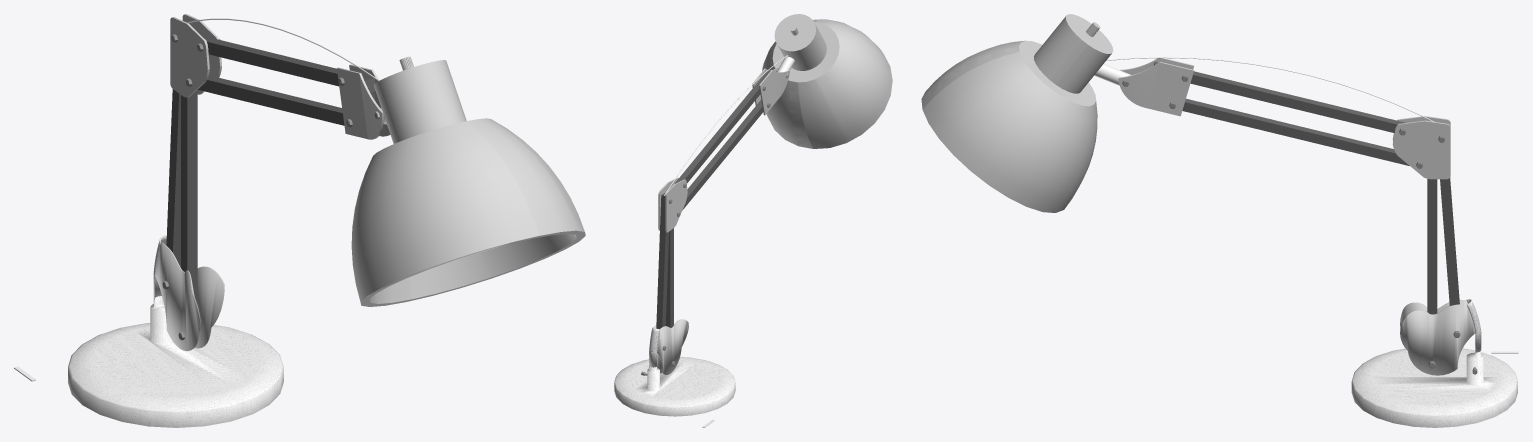
File: Licht.fbx
3 renders of one model, left to right at view 1: azimuth 30°, elevation 25°; view 2: azimuth 150°, elevation 25°; view 3: azimuth 270°, elevation 25°, orthographic. The views are drawn at different scales.
Parts seen in each view (by area): view 1: ID1303, ID1315, group_71, group_34, group_56, group_55, group_36, group_47, group_53, group_35, group_54, ID1335 (+1 smaller); view 2: ID1303, ID1315, group_71, group_36, group_55, group_35, group_56, group_47, group_53, group_34, ID1218; view 3: ID1303, ID1315, group_71, group_54, group_55, group_36, group_38, group_48, group_34, group_35, group_31.
Part boxes in pixels (<box>): ID1303: <box>351,118,585,306</box>; ID1315: <box>68,323,283,427</box>; group_71: <box>374,60,466,143</box>; group_34: <box>181,90,197,304</box>; group_56: <box>155,242,200,351</box>; group_55: <box>198,75,344,125</box>; group_36: <box>205,37,375,91</box>; group_47: <box>170,17,209,97</box>; group_53: <box>337,67,383,139</box>; group_35: <box>166,89,180,267</box>; group_54: <box>194,266,224,348</box>; ID1335: <box>150,304,172,344</box>; ID1303: <box>762,19,892,148</box>; ID1315: <box>614,357,735,416</box>; group_71: <box>774,14,826,70</box>; group_36: <box>675,70,770,183</box>; group_55: <box>682,100,763,210</box>; group_35: <box>656,193,669,328</box>; group_56: <box>657,319,688,374</box>; group_47: <box>665,179,687,232</box>; group_53: <box>759,70,789,115</box>; group_34: <box>665,228,673,327</box>; ID1218: <box>649,327,660,367</box>; ID1303: <box>921,40,1097,212</box>; ID1315: <box>1351,348,1517,427</box>; group_71: <box>1034,14,1113,93</box>; group_54: <box>1400,304,1475,375</box>; group_55: <box>1182,98,1409,165</box>; group_36: <box>1153,62,1405,132</box>; group_38: <box>1392,120,1450,179</box>; group_48: <box>1118,61,1194,116</box>; group_34: <box>1427,179,1437,314</box>; group_35: <box>1440,177,1459,305</box>; group_31: <box>1106,57,1434,121</box>.
Bounding box in the file's own units: 425 × 1291 × 903.
